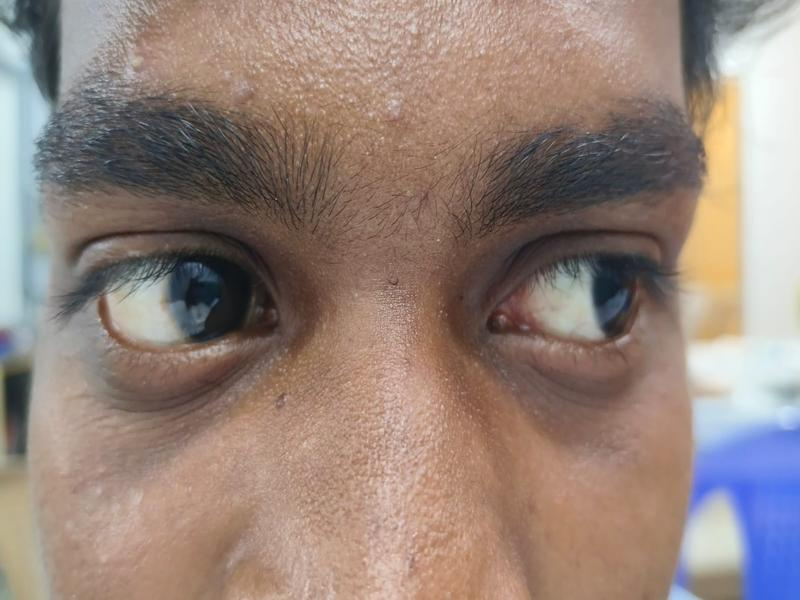EYE LEFT: (78, 245, 275, 348), (510, 250, 650, 346)
